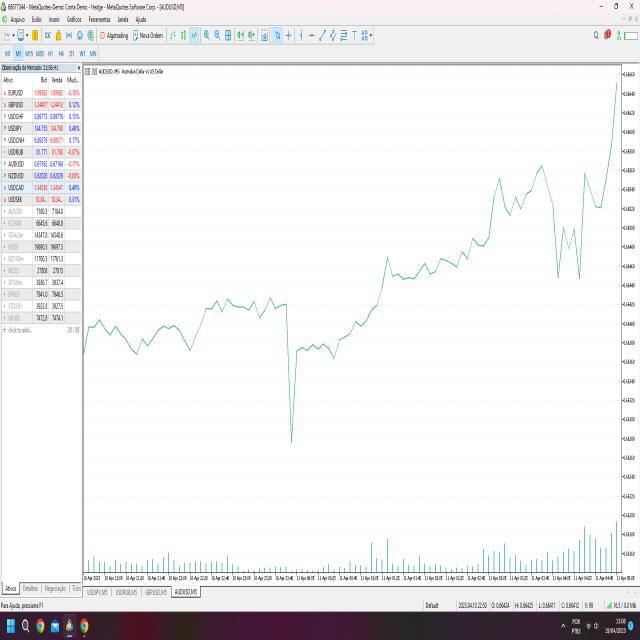fundo_duplo: (540, 199, 591, 289)
